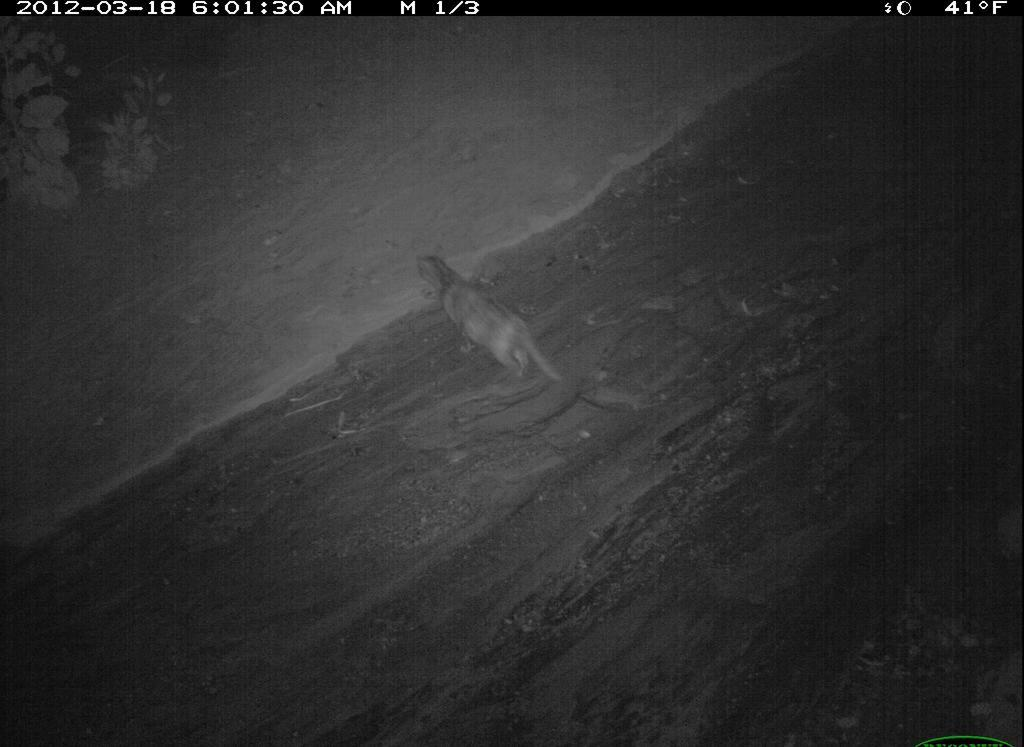cat: (820, 495, 1024, 747)
